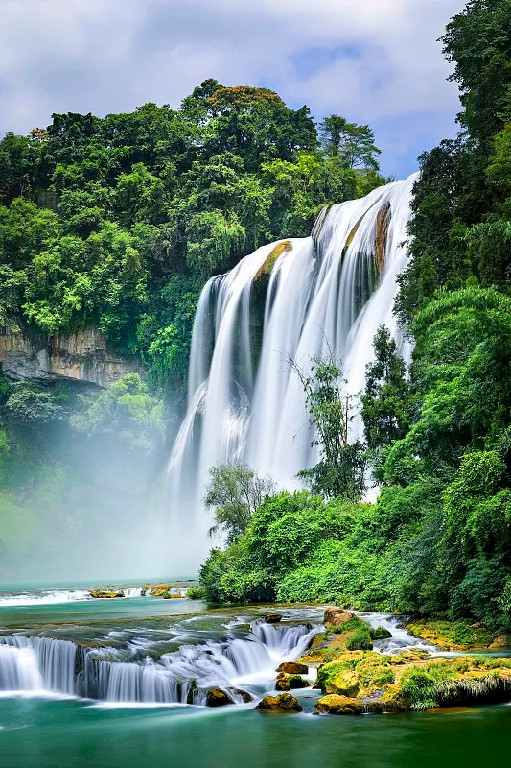Huangguoshu: (176, 171, 416, 566)
